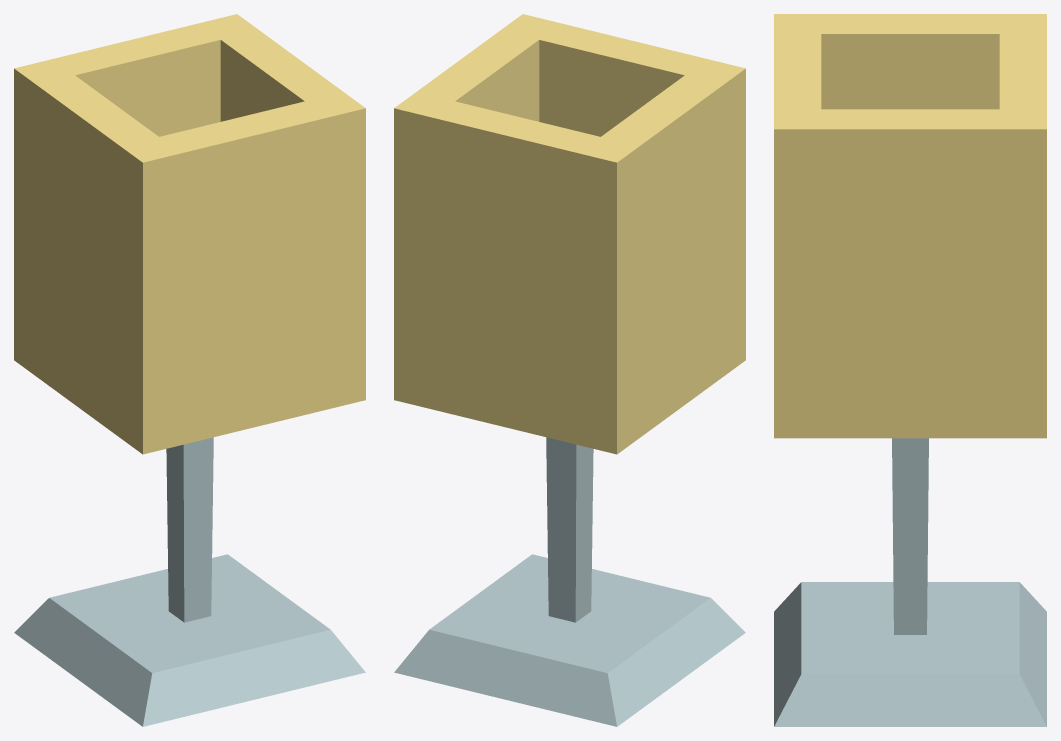
The model's file is Lamp Square Table.glb.
3 renders of one model, left to right at view 1: azimuth 30°, elevation 25°; view 2: azimuth 150°, elevation 25°; view 3: azimuth 270°, elevation 25°, orthographic. The views are drawn at different scales.
Visible parts, largest first — view 1: lampSquareTable(Clone); view 2: lampSquareTable(Clone); view 3: lampSquareTable(Clone).
Boxes of the visible parts, x1,y1,x2,y2 form: lampSquareTable(Clone): (14, 14, 365, 726); lampSquareTable(Clone): (394, 14, 745, 726); lampSquareTable(Clone): (774, 14, 1046, 726).
Size of the model in its own units: 0.12 by 0.29 by 0.12.
